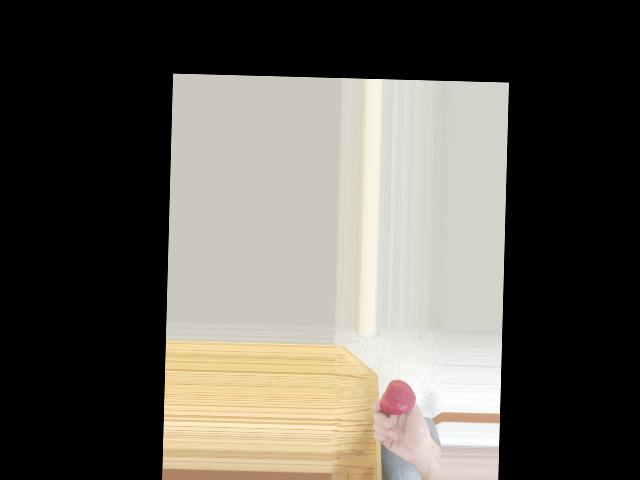apple: (380, 377, 415, 415)
